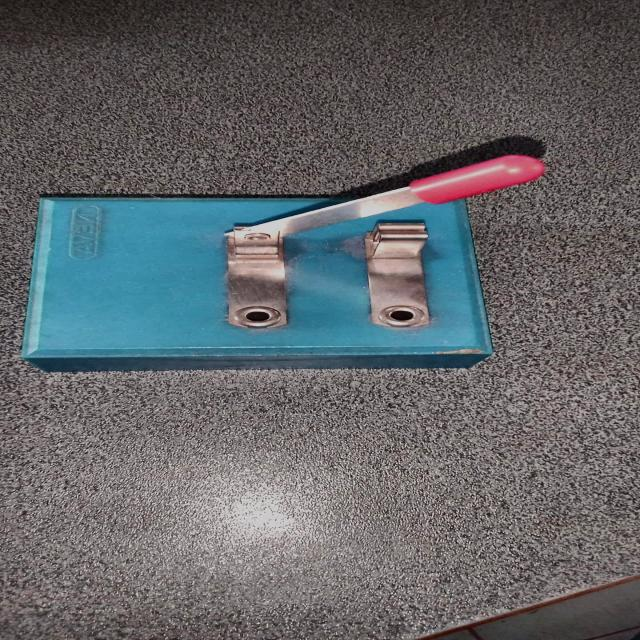L Switch: (9, 152, 578, 390)
